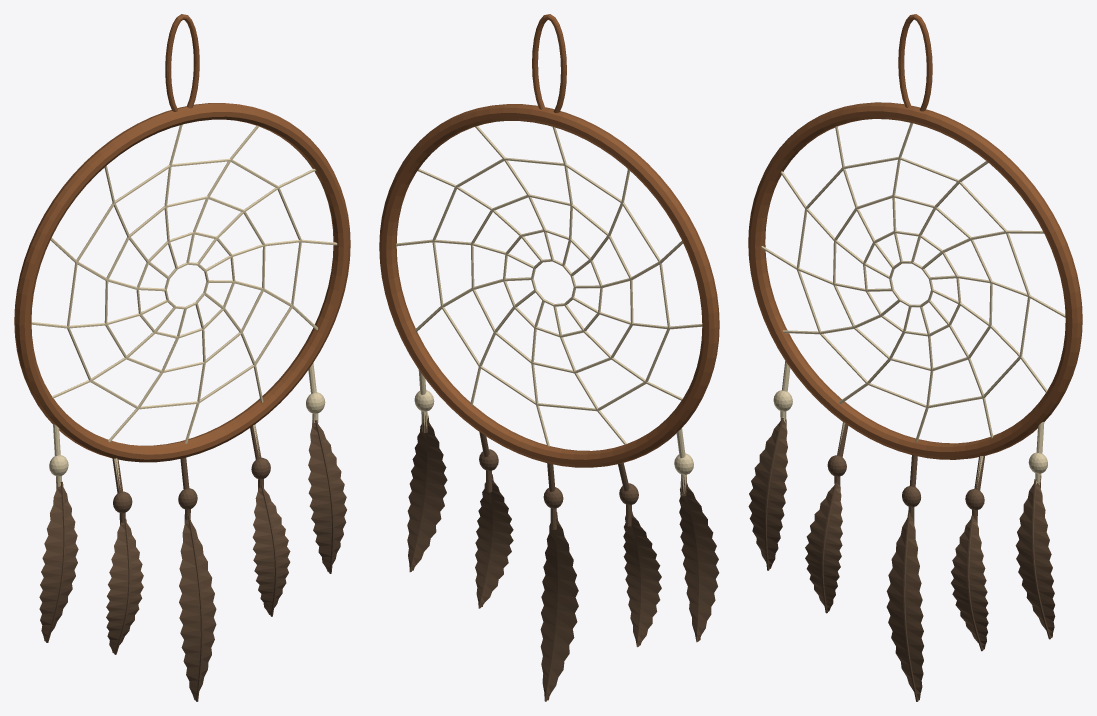
The model's file is NEW_RECOVERY_097_LOD0.glb.
3 renders of one model, left to right at view 1: azimuth 30°, elevation 25°; view 2: azimuth 150°, elevation 25°; view 3: azimuth 330°, elevation 25°, orthographic.
Parts seen in each view (by area): view 1: Dreamcatcher; view 2: Dreamcatcher; view 3: Dreamcatcher.
Part boxes in pixels (<box>): Dreamcatcher: <box>14,14,350,701</box>; Dreamcatcher: <box>379,14,719,701</box>; Dreamcatcher: <box>748,14,1082,701</box>.
Size of the model in its own units: 1.03 by 2.01 by 0.1289.
